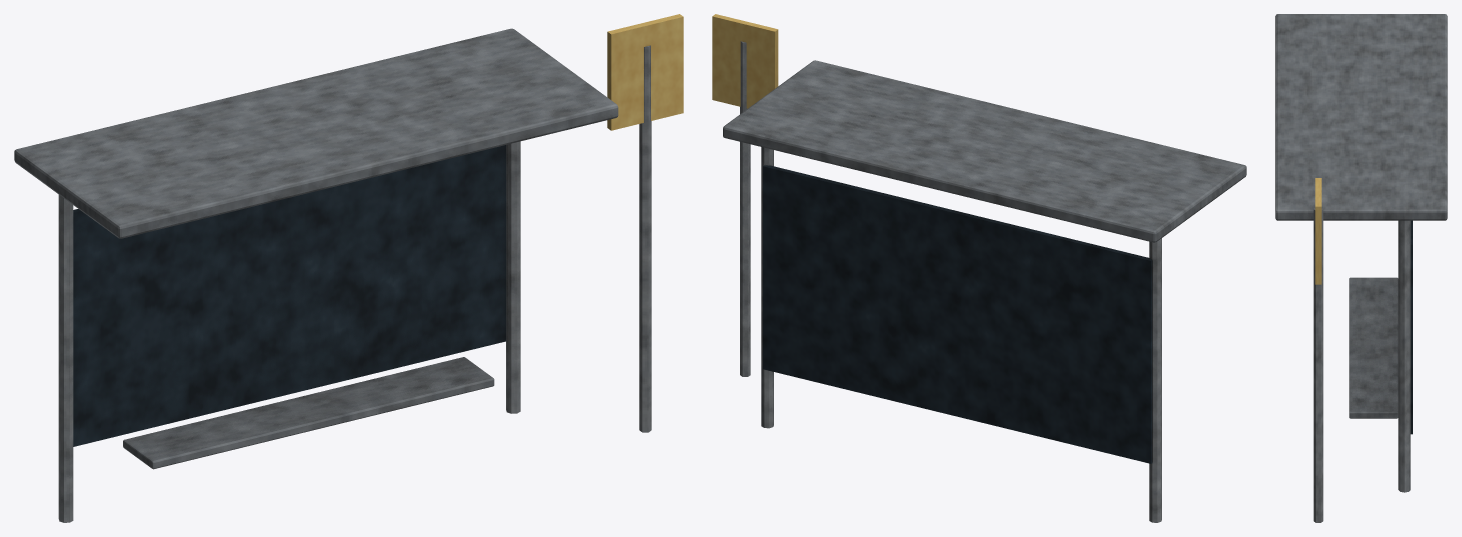
Rendered from city_bus_stop.glb.
The picture shows the model from 3 angles, left to right: view 1: azimuth 30°, elevation 25°; view 2: azimuth 150°, elevation 25°; view 3: azimuth 270°, elevation 25°; orthographic projection. The views are drawn at different scales.
Parts seen in each view (by area): view 1: city_bus_stop; view 2: city_bus_stop; view 3: city_bus_stop.
Part boxes in pixels (box(x1,y1,x2,y2)): city_bus_stop: box(14, 14, 683, 522); city_bus_stop: box(712, 14, 1246, 522); city_bus_stop: box(1275, 14, 1447, 522).
Size of the model in its own units: 4.48 by 2.95 by 1.4.
3 materials, 3 textured.
